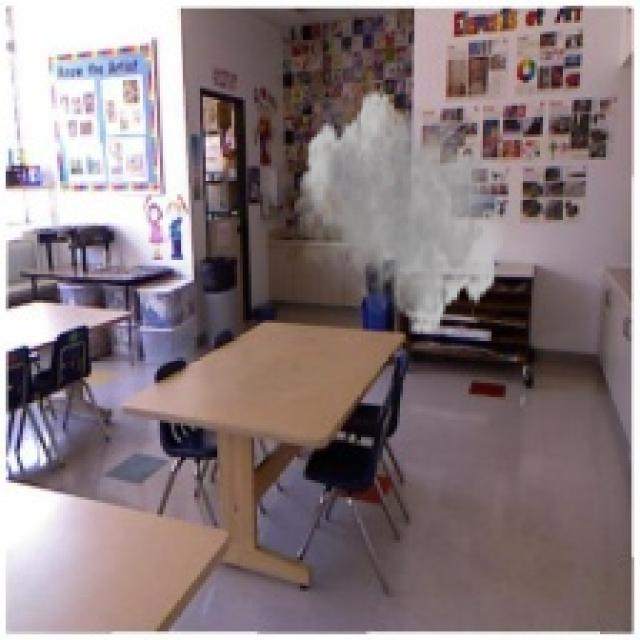smoke: (294, 89, 509, 337)
